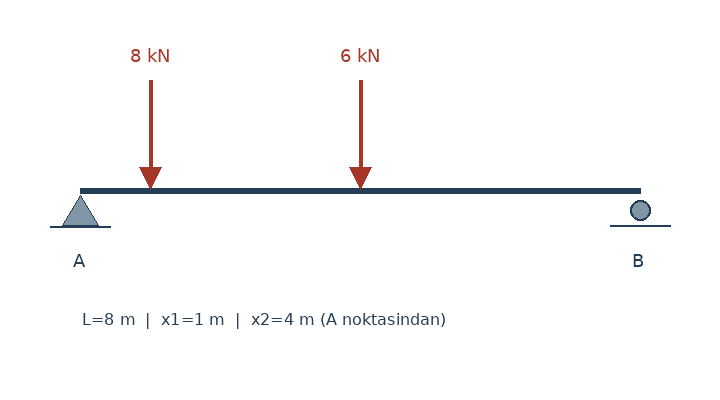pin_support: (61, 190, 99, 226)
point_load: (136, 76, 164, 190), (346, 76, 374, 190)
roller_support: (625, 196, 655, 227)
